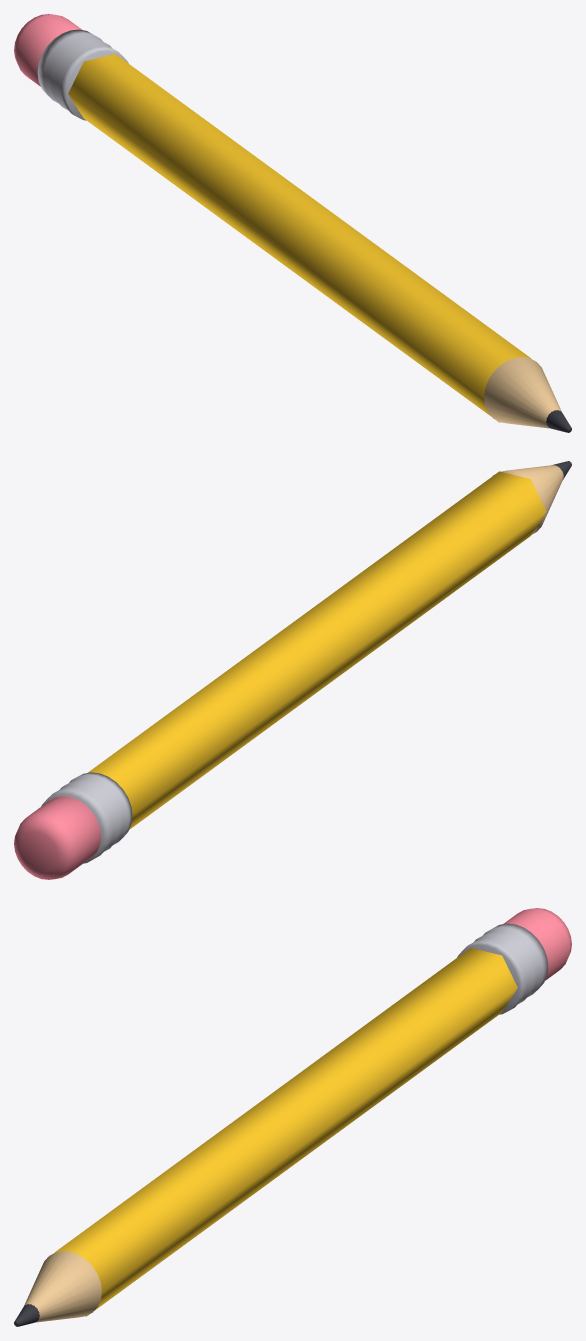
The model's file is TraceRacePencil.obj.
3 renders of one model, top to bottom at view 1: azimuth 30°, elevation 25°; view 2: azimuth 150°, elevation 25°; view 3: azimuth 330°, elevation 25°, orthographic.
Visible parts, largest first — view 1: Body, Wood, Ferrule, Eraser; view 2: Body, Eraser, Ferrule, Wood; view 3: Body, Wood, Ferrule, Eraser.
Boxes of the visible parts, x1,y1,x2,y2 form: Body: (68, 54, 531, 422); Wood: (484, 357, 561, 428); Ferrule: (37, 29, 128, 120); Eraser: (14, 14, 82, 86); Body: (88, 471, 546, 829); Eraser: (14, 796, 100, 879); Ferrule: (41, 772, 132, 863); Wood: (493, 465, 563, 534); Body: (54, 948, 517, 1316); Wood: (24, 1251, 101, 1322); Ferrule: (457, 923, 548, 1014); Eraser: (503, 908, 571, 980).
Bounding box in the file's own units: 4.3 × 4.3 × 58.55.
